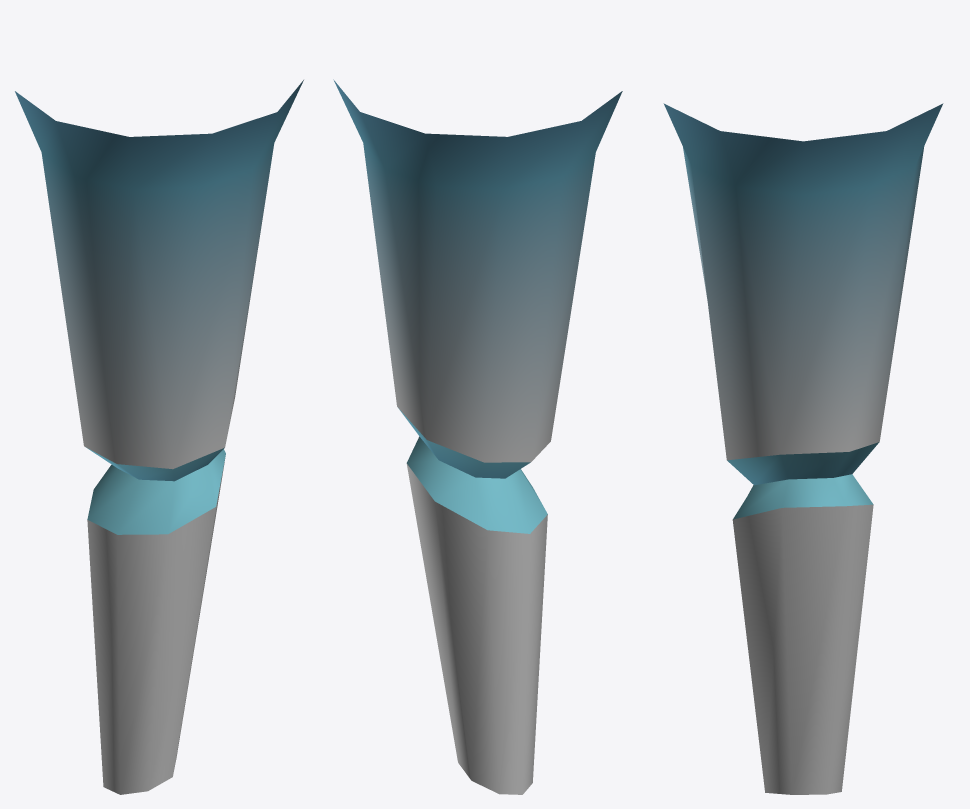
Rendered from IcicleC.glb.
3 views of the same model, side by side, from view 1: azimuth 30°, elevation 25°; view 2: azimuth 150°, elevation 25°; view 3: azimuth 270°, elevation 25° (orthographic). The views are drawn at different scales.
Parts seen in each view (by area): view 1: IcicleC; view 2: IcicleC; view 3: IcicleC.
Part boxes in pixels (x1,y1,x2,y2): IcicleC: [15, 80, 303, 794]; IcicleC: [333, 79, 622, 794]; IcicleC: [663, 103, 943, 794].
Size of the model in its own units: 0.8545 by 2.3 by 0.8633.
